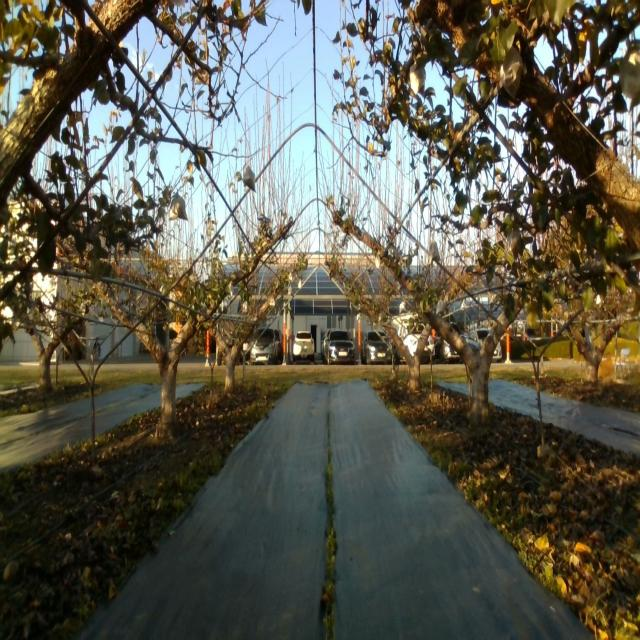pearbags: (619, 44, 640, 112), (169, 192, 188, 221), (244, 165, 256, 191), (428, 240, 440, 262)
